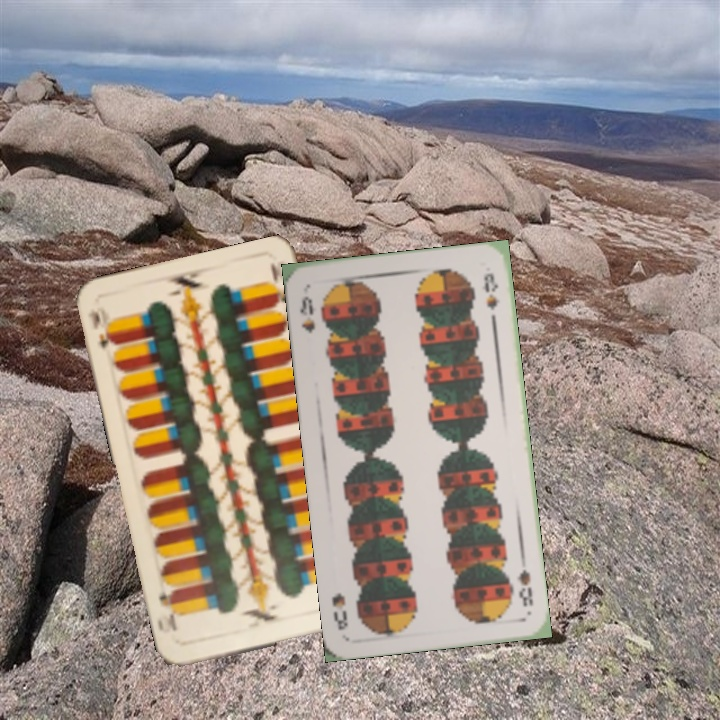E10: (84, 305, 120, 351)
S8: (295, 292, 318, 336), (514, 565, 536, 609)
